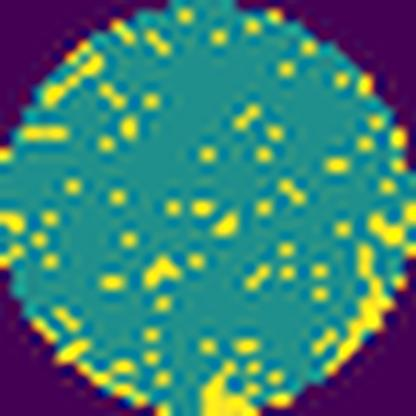Edge-Loc: (322, 242, 401, 376), (198, 357, 261, 416), (364, 196, 415, 246)
